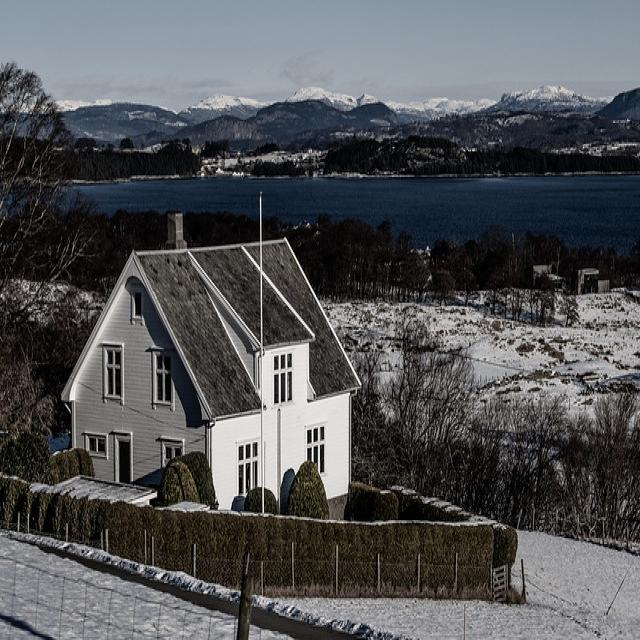building: (54, 230, 365, 528)
